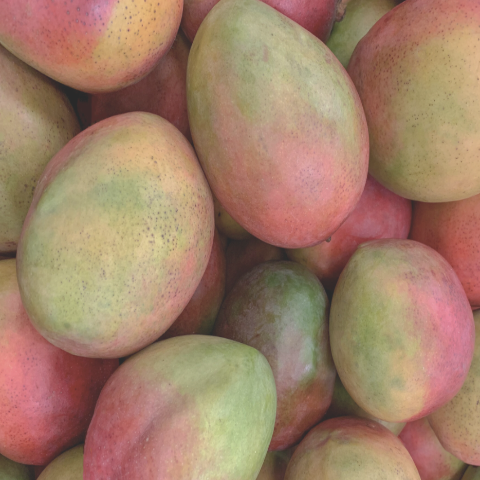mango: (148, 0, 411, 273), (3, 108, 222, 365), (85, 328, 297, 479), (322, 232, 473, 413)
